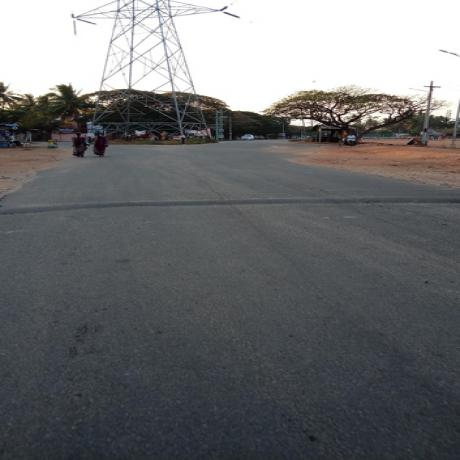Speed Bump: (0, 195, 459, 217)
